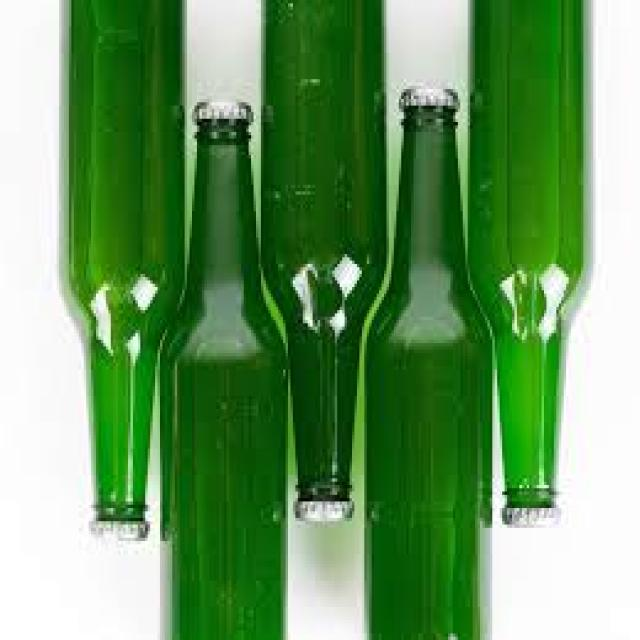Glass: (364, 86, 494, 640), (159, 97, 291, 640), (260, 0, 390, 535), (62, 0, 186, 546), (468, 0, 589, 532)
